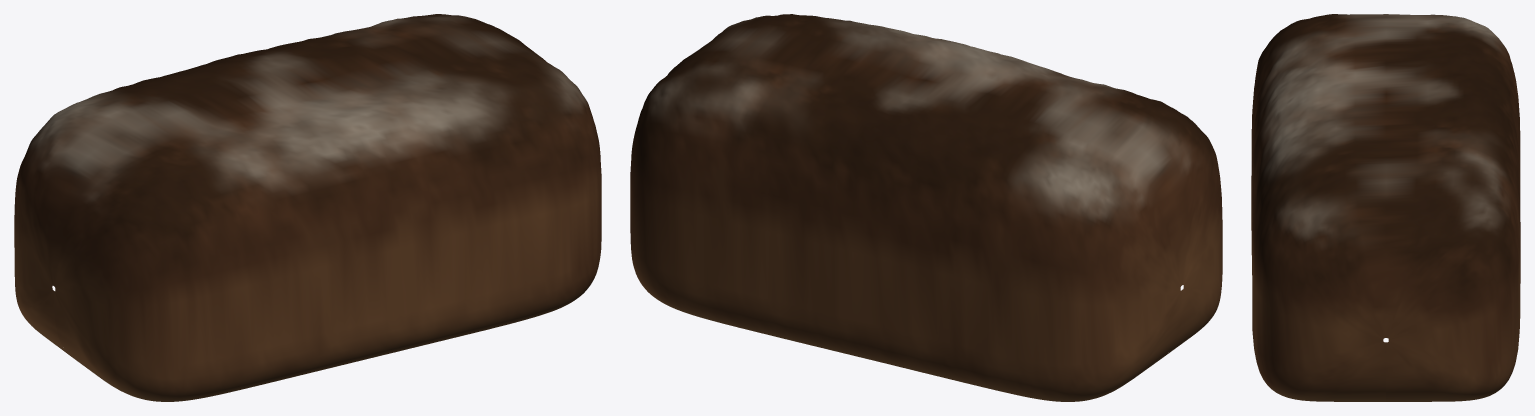
File: schwabenkornt-500g.glb
3 views of the same model, side by side, from view 1: azimuth 30°, elevation 25°; view 2: azimuth 150°, elevation 25°; view 3: azimuth 270°, elevation 25° (orthographic). The views are drawn at different scales.
Parts seen in each view (by area): view 1: schwabenkornt-500g; view 2: schwabenkornt-500g; view 3: schwabenkornt-500g.
Boxes of the visible parts, x1,y1,x2,y2 form: schwabenkornt-500g: [14, 14, 601, 401]; schwabenkornt-500g: [630, 14, 1222, 401]; schwabenkornt-500g: [1251, 14, 1520, 401].
Size of the model in its own units: 0.2 by 0.09 by 0.1.
